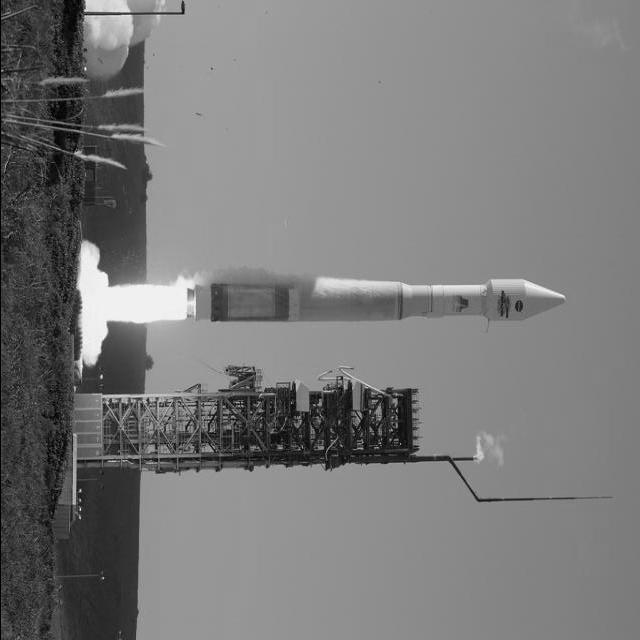missile: (180, 279, 569, 323)
